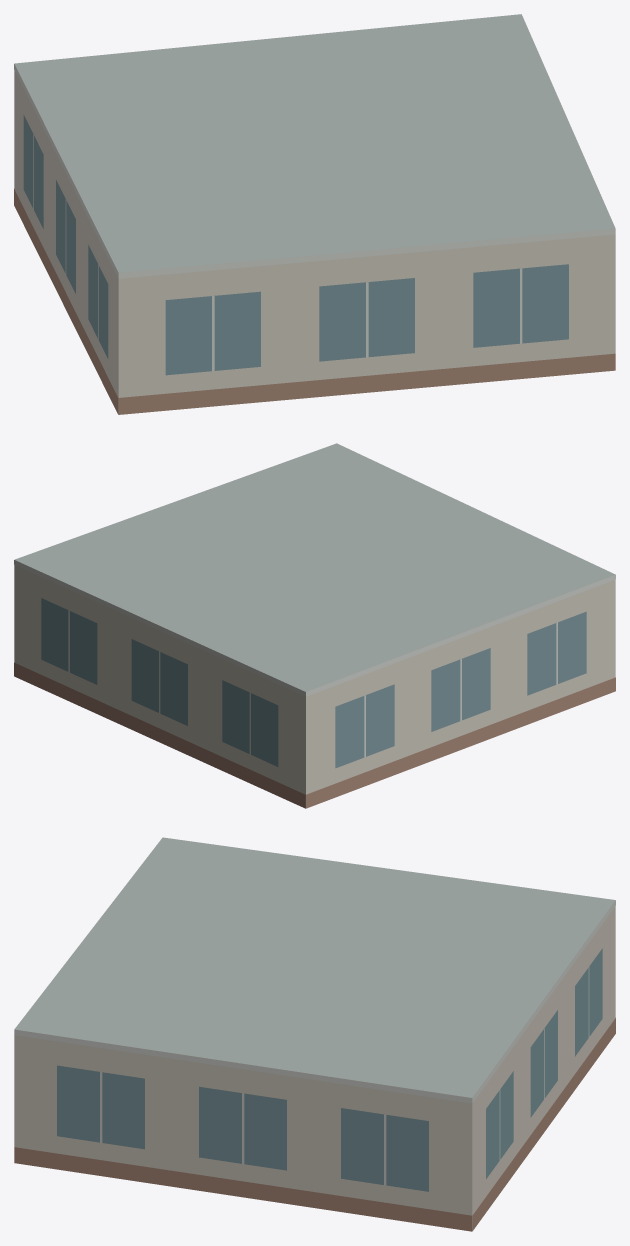
The model's file is survey-upis-32668404.glb.
3 views of the same model, one above another, from view 1: azimuth 30°, elevation 25°; view 2: azimuth 150°, elevation 25°; view 3: azimuth 270°, elevation 25° (orthographic). The views are drawn at different scales.
Parts seen in each view (by area): view 1: survey-upis-32668404.tmp; view 2: survey-upis-32668404.tmp; view 3: survey-upis-32668404.tmp.
Boxes of the visible parts, box(x1,y1,x2,y2) form: survey-upis-32668404.tmp: box(14, 14, 615, 414); survey-upis-32668404.tmp: box(14, 443, 615, 808); survey-upis-32668404.tmp: box(14, 837, 615, 1231).
Bounding box in the file's own units: 12.78 × 3.05 × 12.46.
